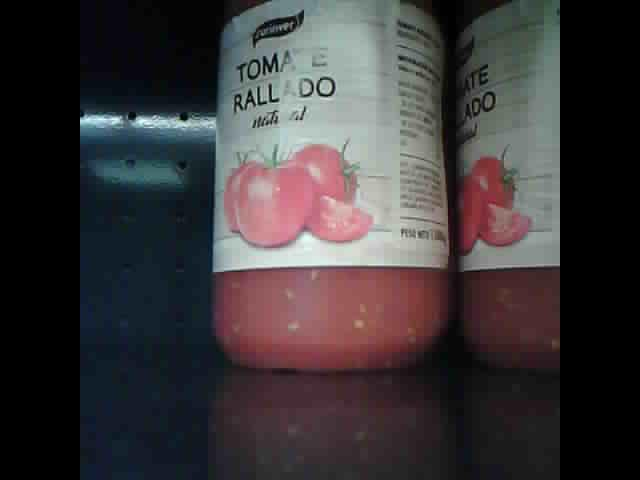tomate: (212, 3, 454, 371), (458, 2, 559, 370)
